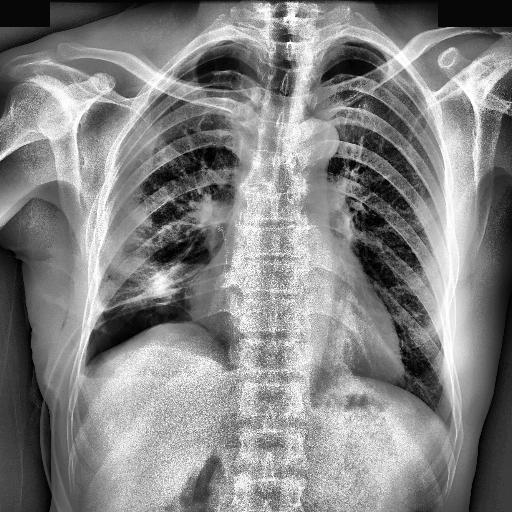0- Aortic enlargement: (286, 118, 340, 160), (287, 120, 338, 160)
11- Pleural thickening: (172, 38, 232, 71)
12- Pneumothorax: (78, 299, 199, 367), (82, 300, 208, 364), (84, 308, 192, 368)
13- Pulmonary fibrosis: (129, 230, 201, 312), (104, 257, 197, 315), (146, 224, 226, 285)
2- Calcification: (328, 140, 336, 154)
3- Cardiomegaly: (186, 264, 406, 384), (182, 272, 406, 386), (182, 278, 404, 382)
7- Lung Opacity: (99, 184, 164, 300), (104, 257, 197, 315)
9- Other lesion: (210, 220, 232, 274)
